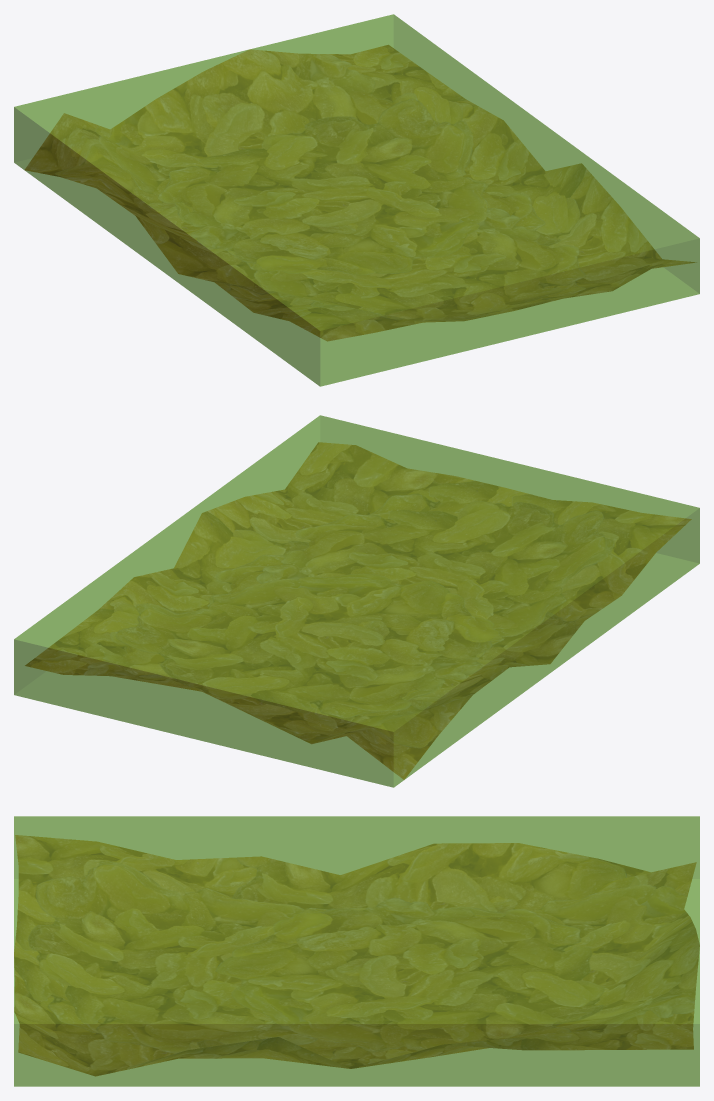
Rendered from pg_dried_fruit_02_d.fbx.
3 views of the same model, one above another, from view 1: azimuth 30°, elevation 25°; view 2: azimuth 150°, elevation 25°; view 3: azimuth 270°, elevation 25° (orthographic). The views are drawn at different scales.
Visible parts, largest first — view 1: pg_dried_fruit_02_d_col, pg_dried_fruit_02_d_LOD0; view 2: pg_dried_fruit_02_d_col, pg_dried_fruit_02_d_LOD0; view 3: pg_dried_fruit_02_d_col, pg_dried_fruit_02_d_LOD0.
Part boxes in pixels (x1,y1,x2,y2): pg_dried_fruit_02_d_col: (14,14,699,386); pg_dried_fruit_02_d_LOD0: (25,45,696,341); pg_dried_fruit_02_d_col: (14,415,699,787); pg_dried_fruit_02_d_LOD0: (25,442,691,779); pg_dried_fruit_02_d_col: (14,816,699,1086); pg_dried_fruit_02_d_LOD0: (14,835,699,1076).
Size of what is drawn, in the model's own units: 30.21 by 4.24 by 42.18.
